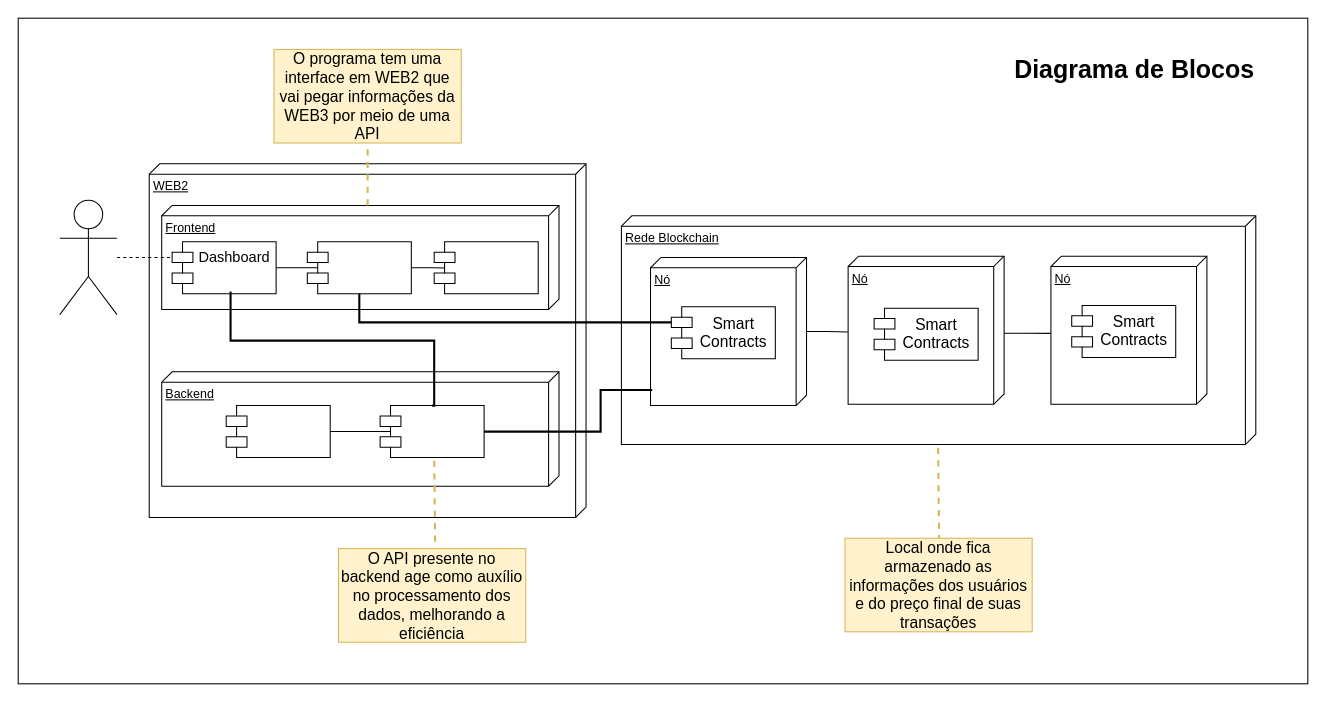
Some shapes in this 1326 by 702 pixel diagram are drawn without their labels. The shapes that lost their labels are listed below. From the top down, each one's centre as x and y in pixels, then its label:
At pixel 88 257: "Usuário".
At pixel 358 267: "Web3.js".
At pixel 485 267: "Wallet".
At pixel 277 431: "Banco de Dados".
At pixel 431 431: "API".
